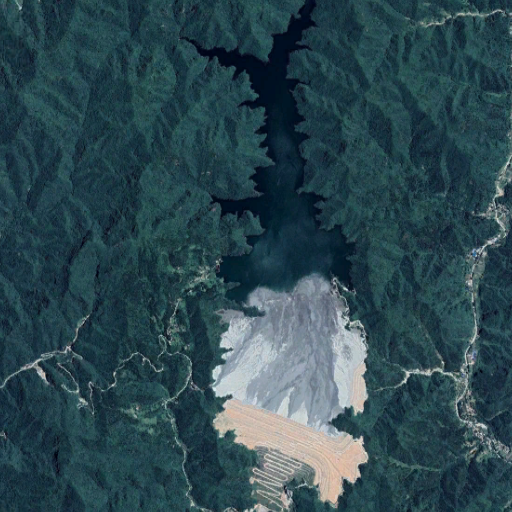tp: (180, 6, 384, 503)
